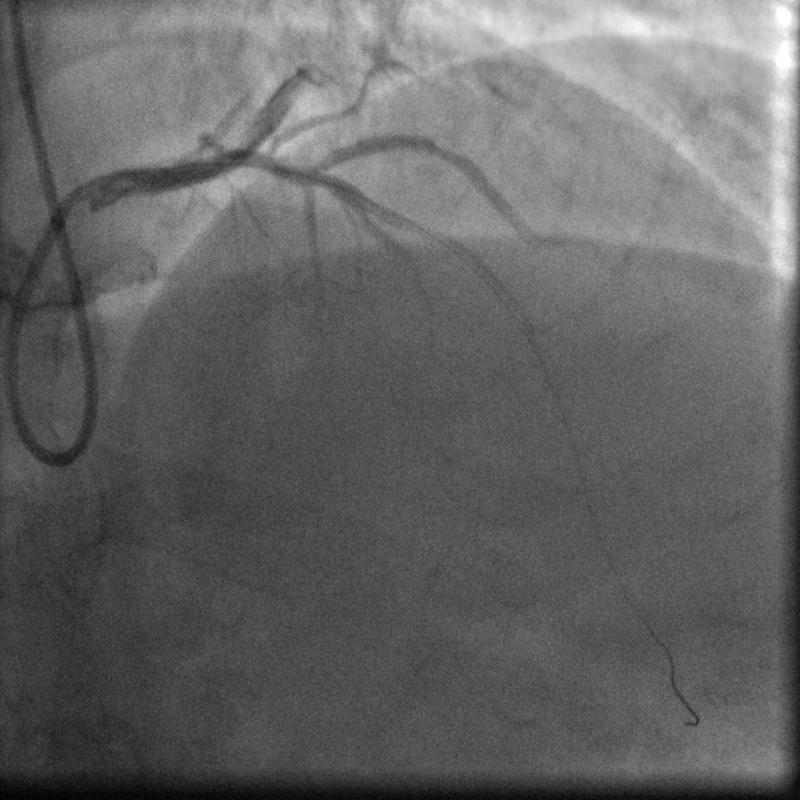Stenosis: (421, 127, 459, 168)
